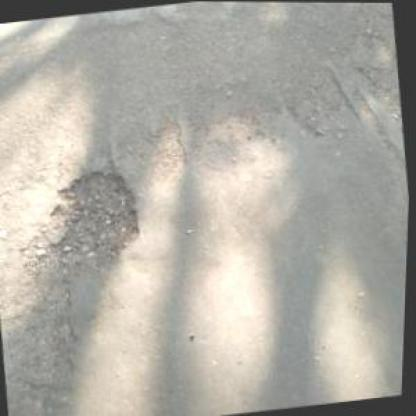pothole: (32, 161, 152, 272)
